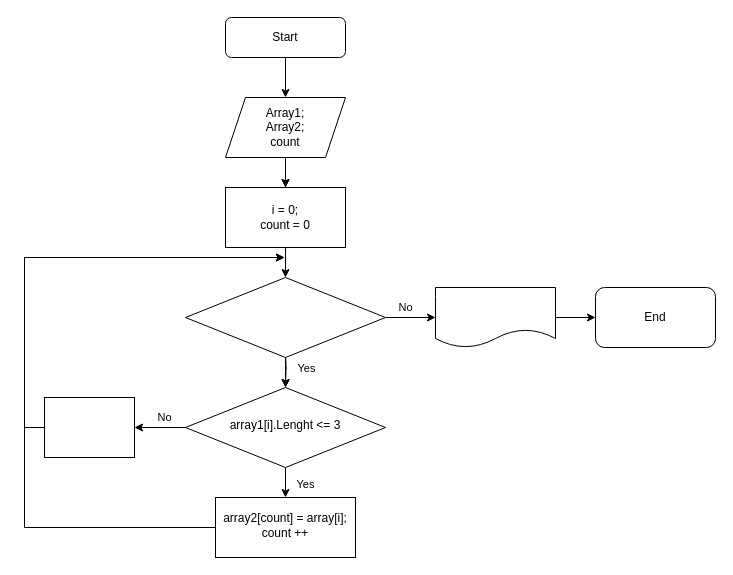
This 733x575 diagram has some shape labels left out. The shapes that lost their labels are listed below. From the top down, each one's centre as x and y in pixels, then its label:
the point at 285,317: i < array1.Lenght
the point at 495,317: array2
the point at 89,427: i ++
